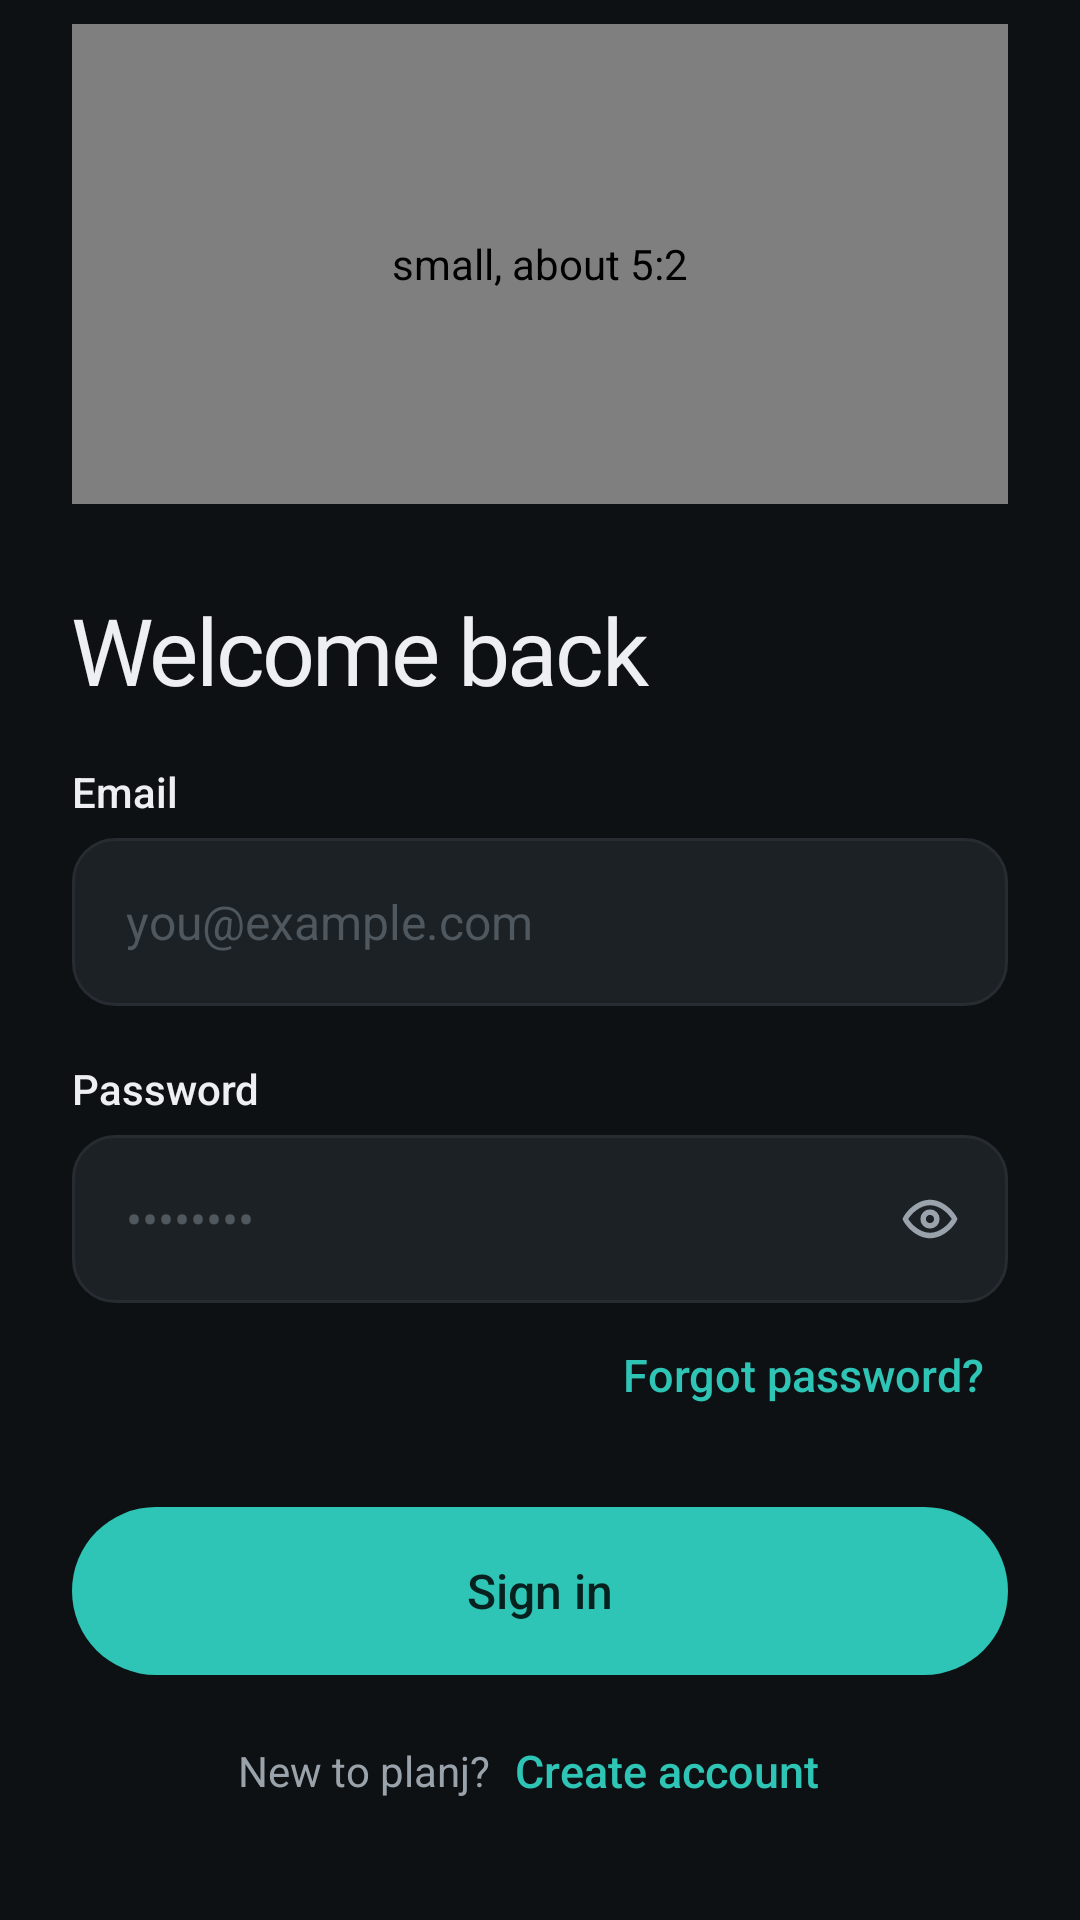

Icons on this 1080x1920 Android screen, each with its box as (x1, y1, x2, y2):
Show password: (902, 1199, 958, 1239)
